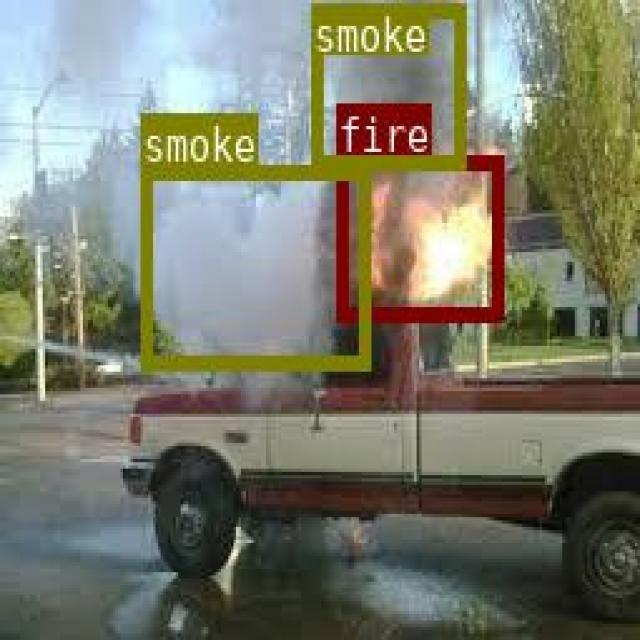fire: (336, 154, 500, 317)
smoke: (140, 164, 367, 369), (311, 1, 463, 167)
